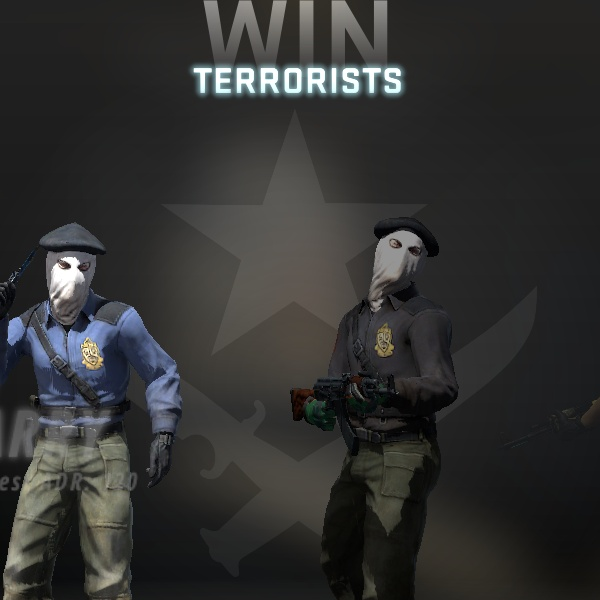ct_body: (260, 184, 506, 600)
